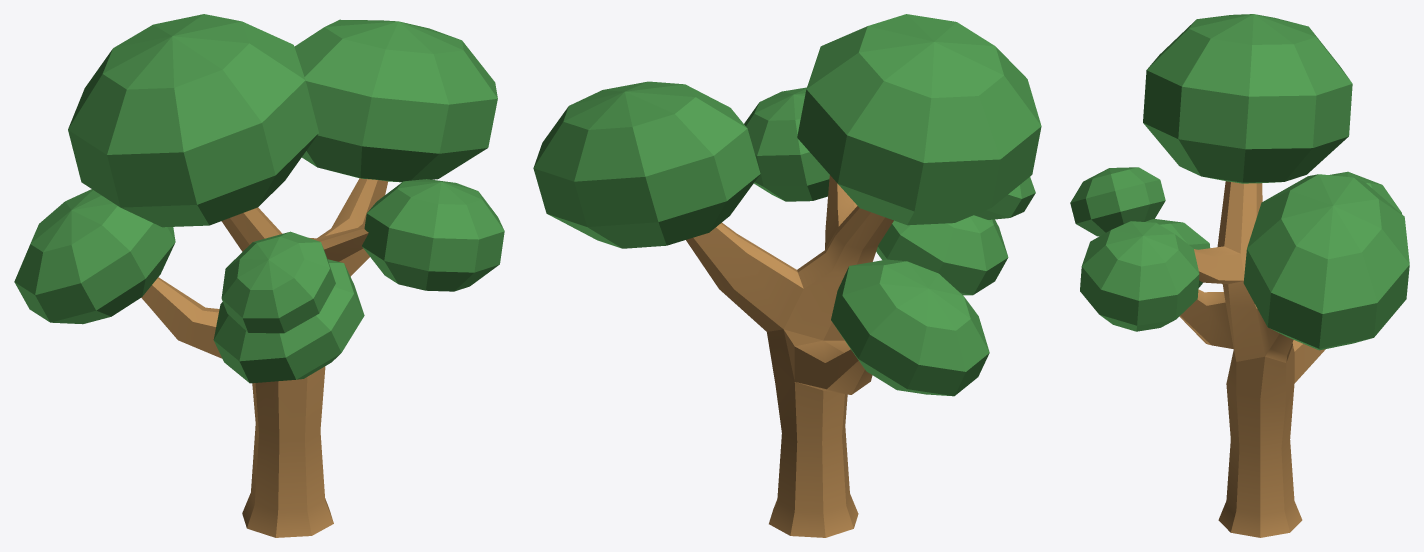
The model's file is tree.fbx.
The picture shows the model from 3 angles, left to right: view 1: azimuth 30°, elevation 25°; view 2: azimuth 150°, elevation 25°; view 3: azimuth 270°, elevation 25°; orthographic projection. The views are drawn at different scales.
Parts seen in each view (by area): view 1: polySurface2, polySurface3, polySurface1, polySurface5, polySurface7, polySurface6, polySurface4; view 2: polySurface2, polySurface1, polySurface3, polySurface5, polySurface4, polySurface7, polySurface6; view 3: polySurface2, polySurface3, polySurface1, polySurface7, polySurface6, polySurface4, polySurface5.
Part boxes in pixels (x1=…): polySurface2: x1=68, y1=14, x2=318, y2=227; polySurface3: x1=294, y1=19, x2=497, y2=182; polySurface1: x1=141, y1=178, x2=388, y2=537; polySurface5: x1=14, y1=189, x2=175, y2=324; polySurface7: x1=362, y1=179, x2=504, y2=291; polySurface6: x1=221, y1=231, x2=335, y2=333; polySurface4: x1=213, y1=259, x2=364, y2=383; polySurface2: x1=797, y1=14, x2=1041, y2=225; polySurface1: x1=686, y1=175, x2=893, y2=537; polySurface3: x1=533, y1=81, x2=760, y2=248; polySurface5: x1=831, y1=259, x2=989, y2=396; polySurface4: x1=876, y1=215, x2=1008, y2=295; polySurface7: x1=744, y1=87, x2=829, y2=201; polySurface6: x1=974, y1=177, x2=1035, y2=219; polySurface2: x1=1143, y1=14, x2=1352, y2=183; polySurface3: x1=1243, y1=174, x2=1409, y2=350; polySurface1: x1=1179, y1=181, x2=1325, y2=537; polySurface7: x1=1080, y1=221, x2=1199, y2=331; polySurface6: x1=1070, y1=167, x2=1165, y2=236; polySurface4: x1=1145, y1=219, x2=1210, y2=288; polySurface5: x1=1329, y1=171, x2=1401, y2=213.
Size of the model in its own units: 24.52 by 26.26 by 17.78.
